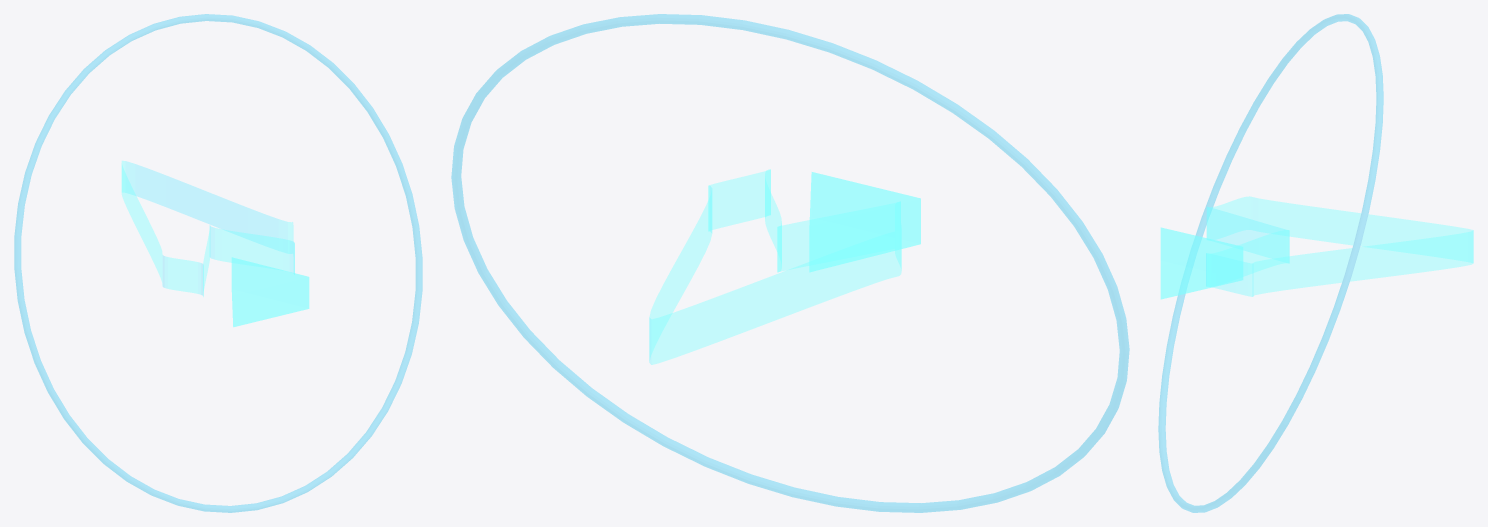
The model's file is avanza_vector_scene.glb.
3 views of the same model, side by side, from view 1: azimuth 30°, elevation 25°; view 2: azimuth 150°, elevation 25°; view 3: azimuth 270°, elevation 25° (orthographic). The views are drawn at different scales.
Parts seen in each view (by area): view 1: NeonVectorRing, UpperArrowCurve, LowerBaseObj; view 2: UpperArrowCurve, NeonVectorRing, LowerBaseObj; view 3: UpperArrowCurve, NeonVectorRing, LowerBaseObj.
Part boxes in pixels (left/top/right/bottom): NeonVectorRing: left=14, top=14, right=422, bottom=512; UpperArrowCurve: left=121, top=161, right=294, bottom=296; LowerBaseObj: left=231, top=257, right=309, bottom=326; UpperArrowCurve: left=649, top=169, right=901, bottom=364; NeonVectorRing: left=451, top=14, right=1129, bottom=512; LowerBaseObj: left=809, top=172, right=920, bottom=271; UpperArrowCurve: left=1206, top=196, right=1473, bottom=296; NeonVectorRing: left=1158, top=14, right=1383, bottom=512; LowerBaseObj: left=1160, top=227, right=1242, bottom=299.
Bounding box in the file's own units: 5.61 × 5.22 × 3.42.
